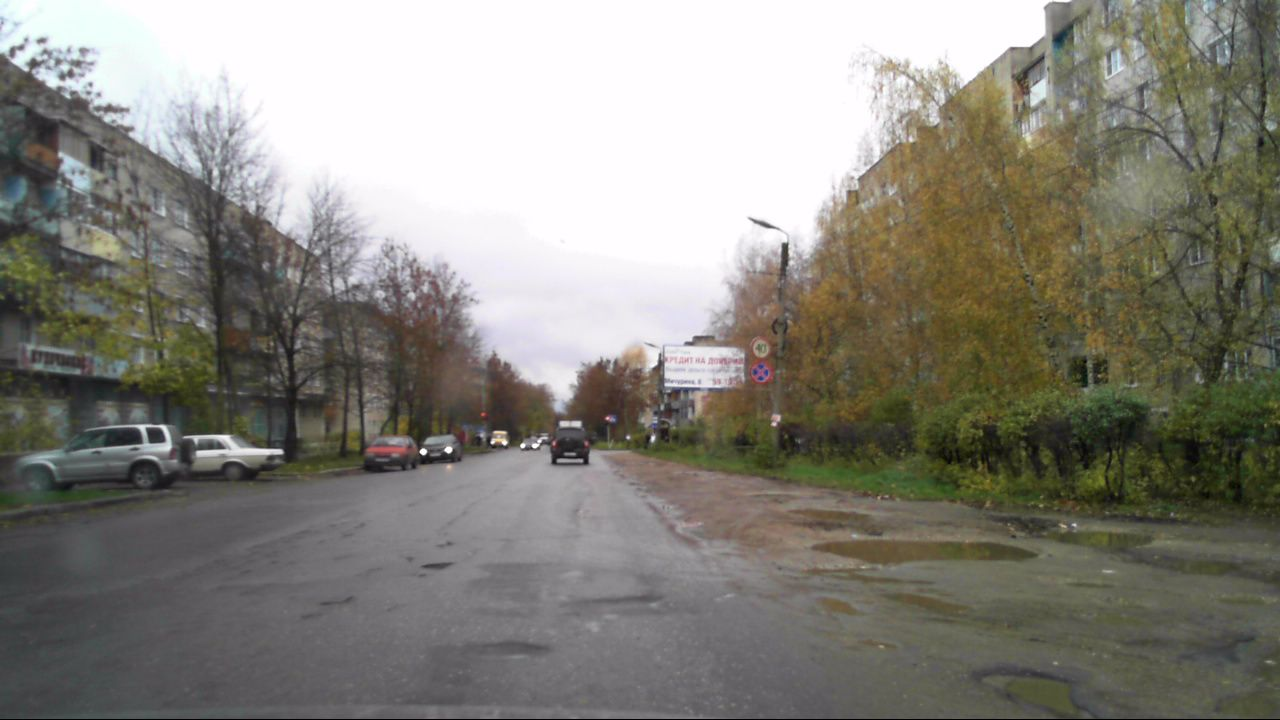No Parking: (749, 361, 773, 386)
speed_warning_40: (749, 335, 770, 358)
